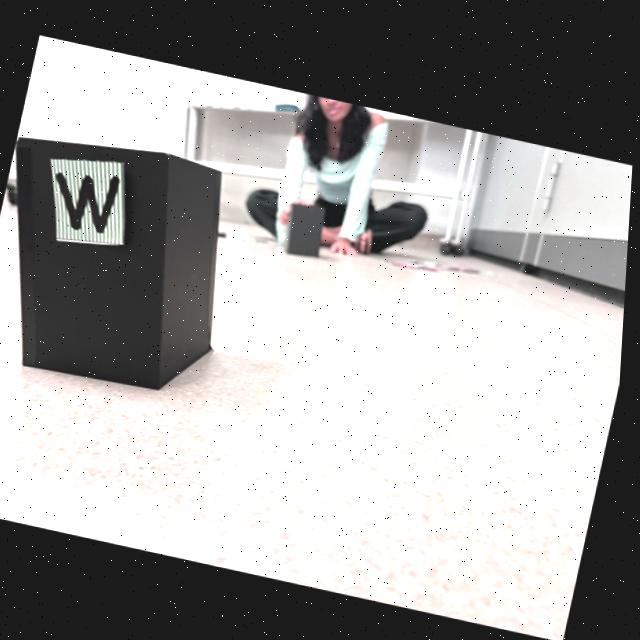W: (58, 173, 119, 230)
